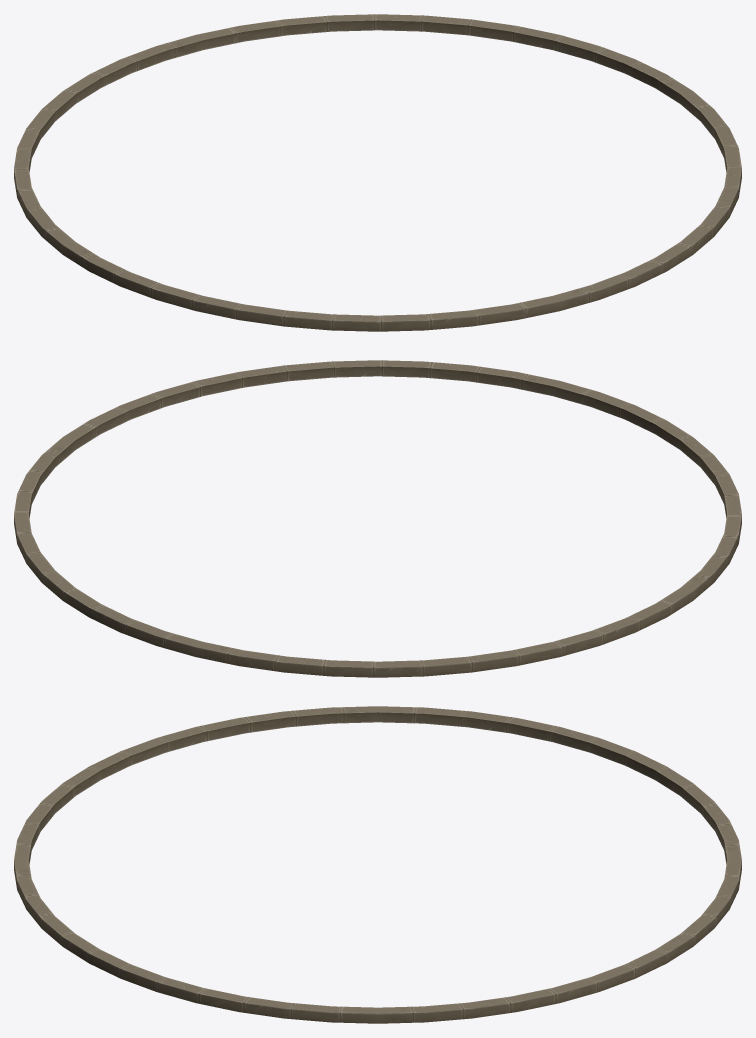
The model's file is Border.FBX.
3 renders of one model, top to bottom at view 1: azimuth 30°, elevation 25°; view 2: azimuth 150°, elevation 25°; view 3: azimuth 270°, elevation 25°, orthographic.
Parts seen in each view (by area): view 1: Border; view 2: Border; view 3: Border.
Part boxes in pixels (x1,y1,x2,y2): Border: (14, 14, 741, 331); Border: (14, 360, 741, 677); Border: (14, 706, 741, 1023).
Size of the model in its own units: 1666 by 25 by 1666.
